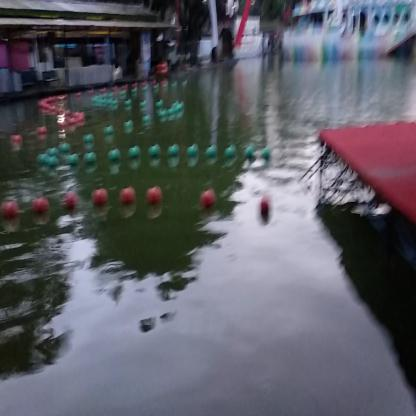green_buoy: (127, 145, 141, 168), (168, 143, 180, 167), (189, 142, 200, 165), (225, 143, 237, 164), (108, 149, 119, 168), (208, 145, 218, 164), (150, 146, 160, 165), (262, 147, 271, 162), (247, 145, 254, 163)
red_buoy: (202, 188, 215, 214), (93, 190, 109, 211), (122, 186, 134, 213), (148, 186, 160, 213), (4, 201, 17, 225), (35, 199, 49, 221), (66, 191, 78, 213), (261, 196, 271, 222)
